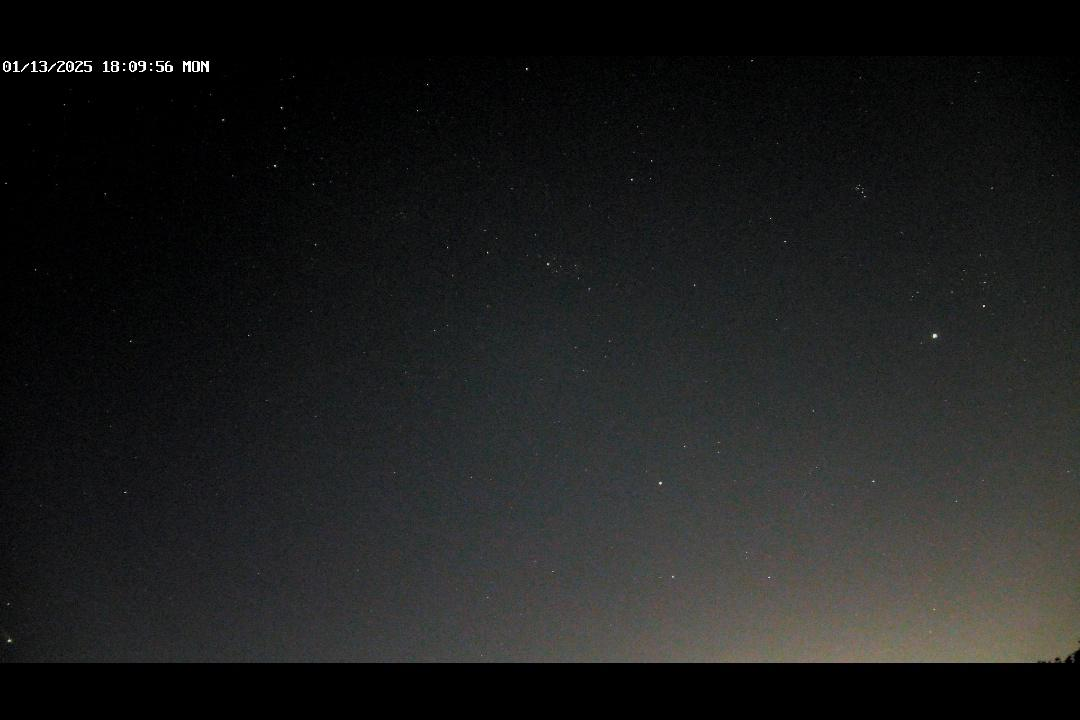Plane: (0, 633, 14, 648)
